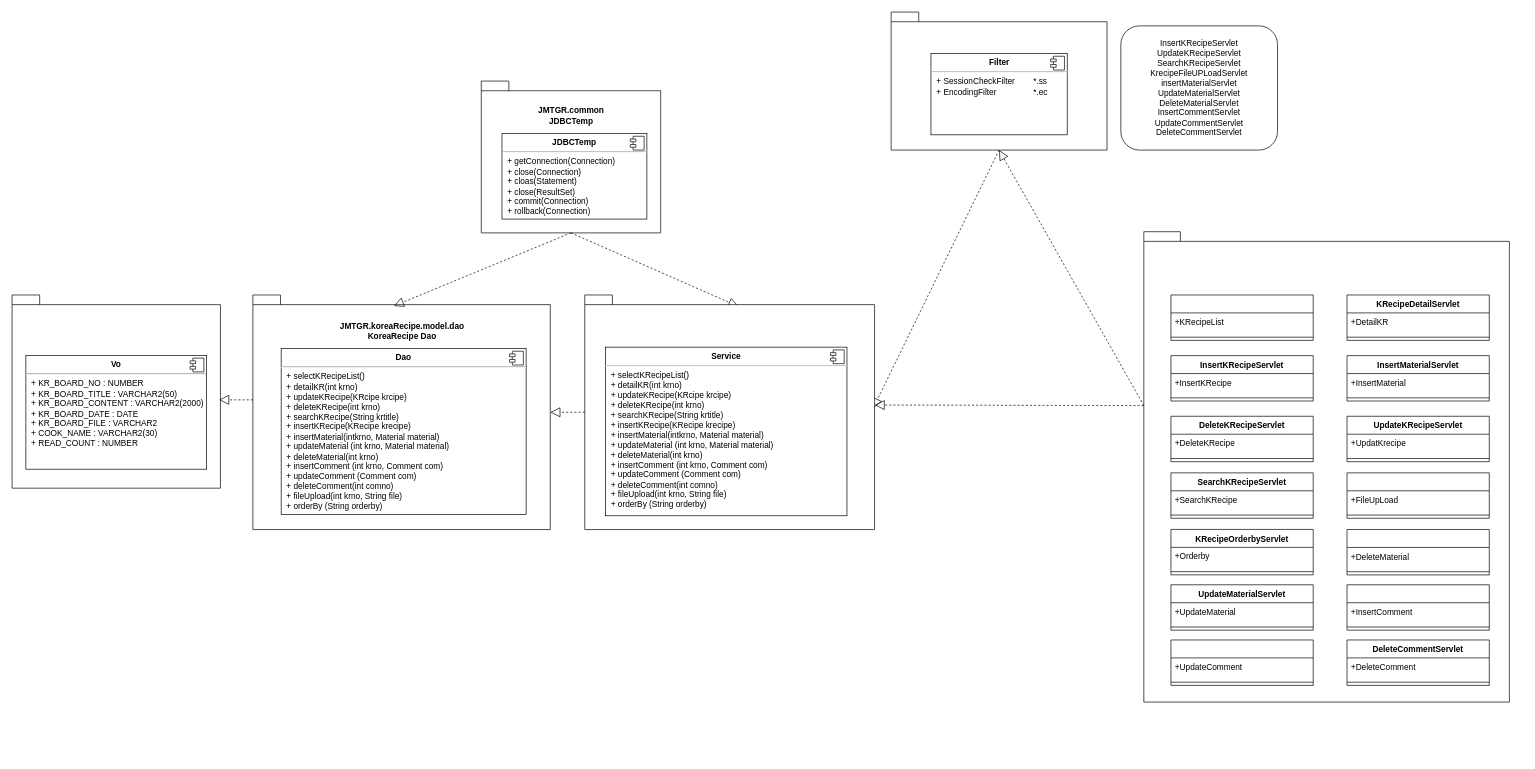
The diagram is 1535 pixels wide and 769 high, and some of its shapes have lost their labels. Here are the shapes that lost their labels. From the top down, the box of each, then its label:
(890, 11, 1107, 150): JMTGR.koreaRecipe.model.filter KoreaRecipe Filter
(1170, 294, 1313, 340): KRecipeListServlet
(11, 294, 220, 488): JMTGR.koreaRecipe.model.vo koreaRecipe Vo
(584, 294, 875, 530): JMTGR.koreaRecipe.model.service KoreaRecipe Service
(1143, 231, 1509, 702): JMTGR.KoreaRecipe.controller KoreaRecipe Controller
(1346, 472, 1489, 518): KRecipeFileUpLoadServlet
(1346, 529, 1489, 575): DeleteMaterialServlet
(1346, 584, 1489, 630): InsertCommentServlet
(1170, 639, 1313, 685): UpdateCommentServlet
